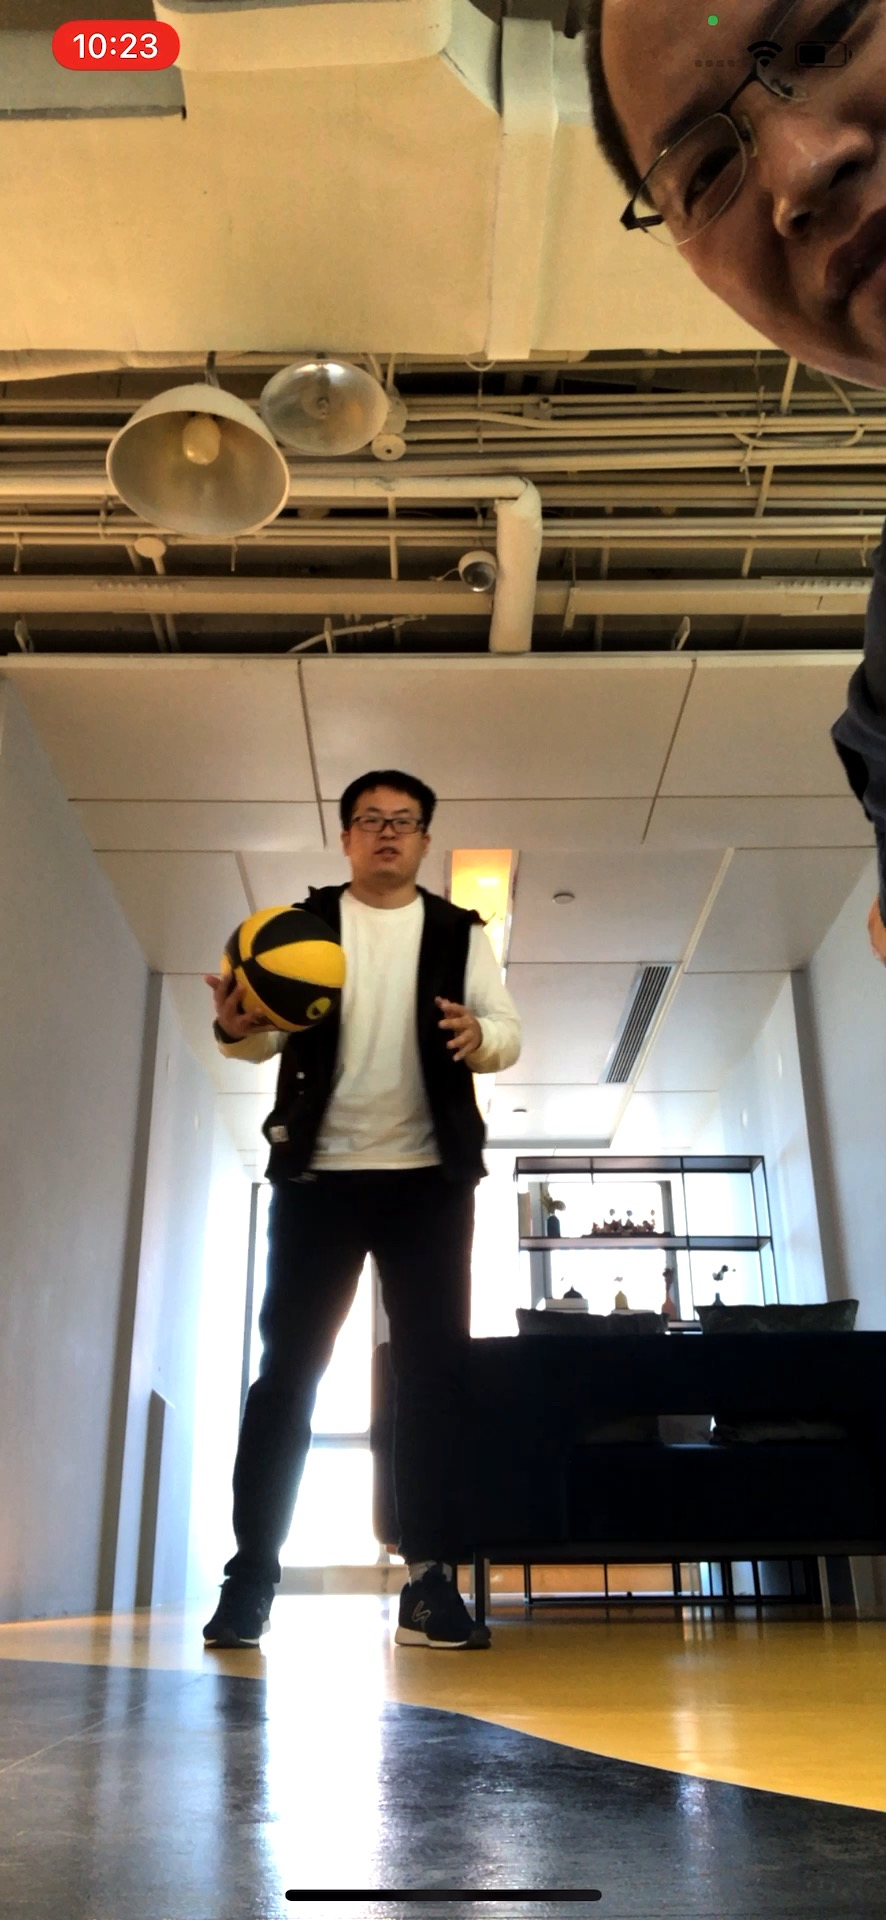ball: (223, 909, 352, 1040)
